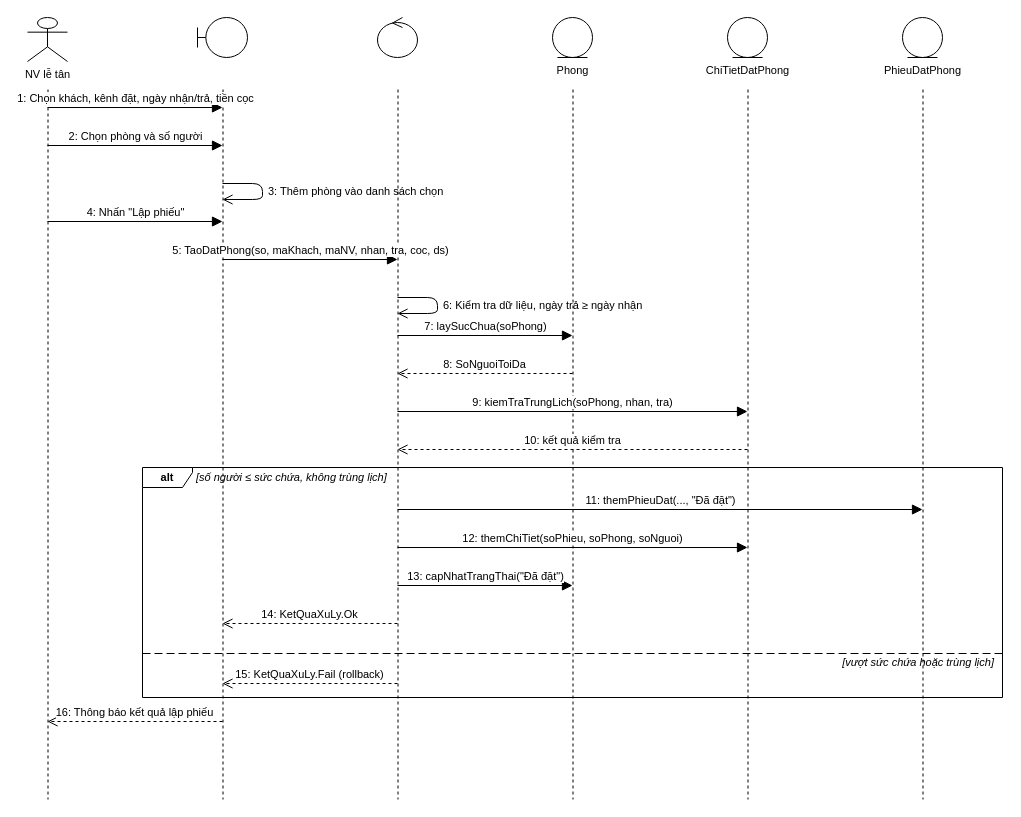
The diagram is 1021 pixels wide and 817 high, and some of its shapes have lost their labels. The box of each missing label's shape, as (x1, y1, x2, y2) in pixels:
DatPhongService: (376, 16, 418, 58)
FrmDatPhong: (196, 16, 248, 58)
